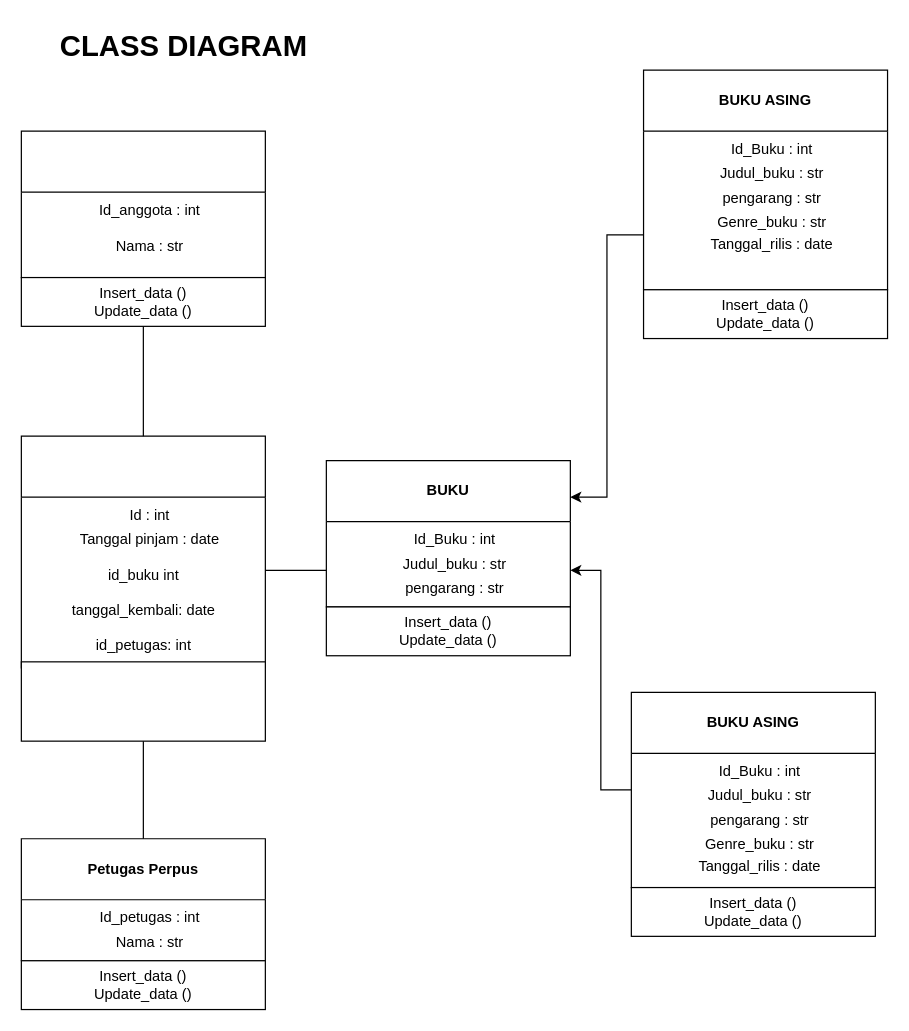
The diagram is 909 pixels wide and 1031 high, and some of its shapes have lost their labels. The shapes that lost their labels are listed below. From the top down, each one's box as (x1, y1, x2, y2) in pixels, then its label:
(20, 130, 265, 278): Anggota Perpus
(20, 435, 265, 668): Pinjam Buku
(20, 661, 265, 741): Insert_data () Update_data () pilih_buku ()
